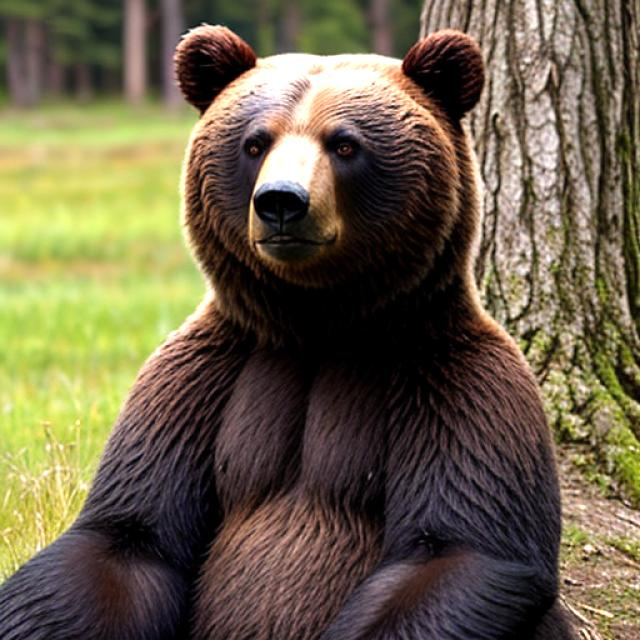bear: (153, 28, 494, 344)
